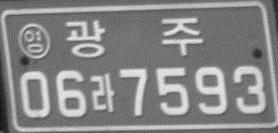0: (18, 70, 52, 119)
3: (232, 64, 266, 115)
5: (154, 66, 189, 116)
6: (55, 68, 88, 118)
7: (118, 68, 148, 116)
9: (193, 66, 228, 115)
광주_D: (64, 17, 204, 58)
라: (89, 73, 116, 113)
영: (16, 23, 51, 60)
